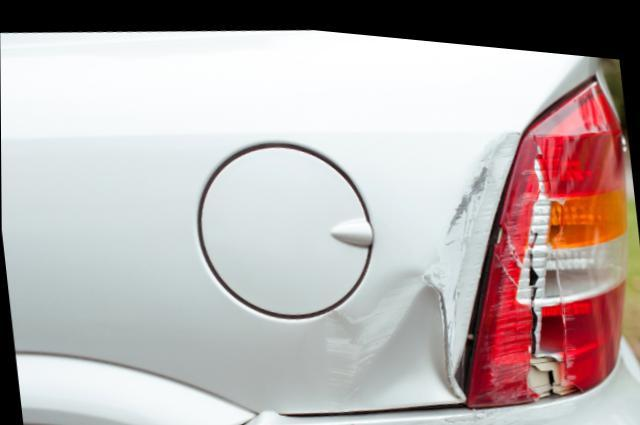dent: (340, 265, 465, 404)
lamp broken: (468, 66, 627, 398)
scratch: (420, 120, 521, 365), (348, 396, 558, 425), (323, 300, 364, 400)
